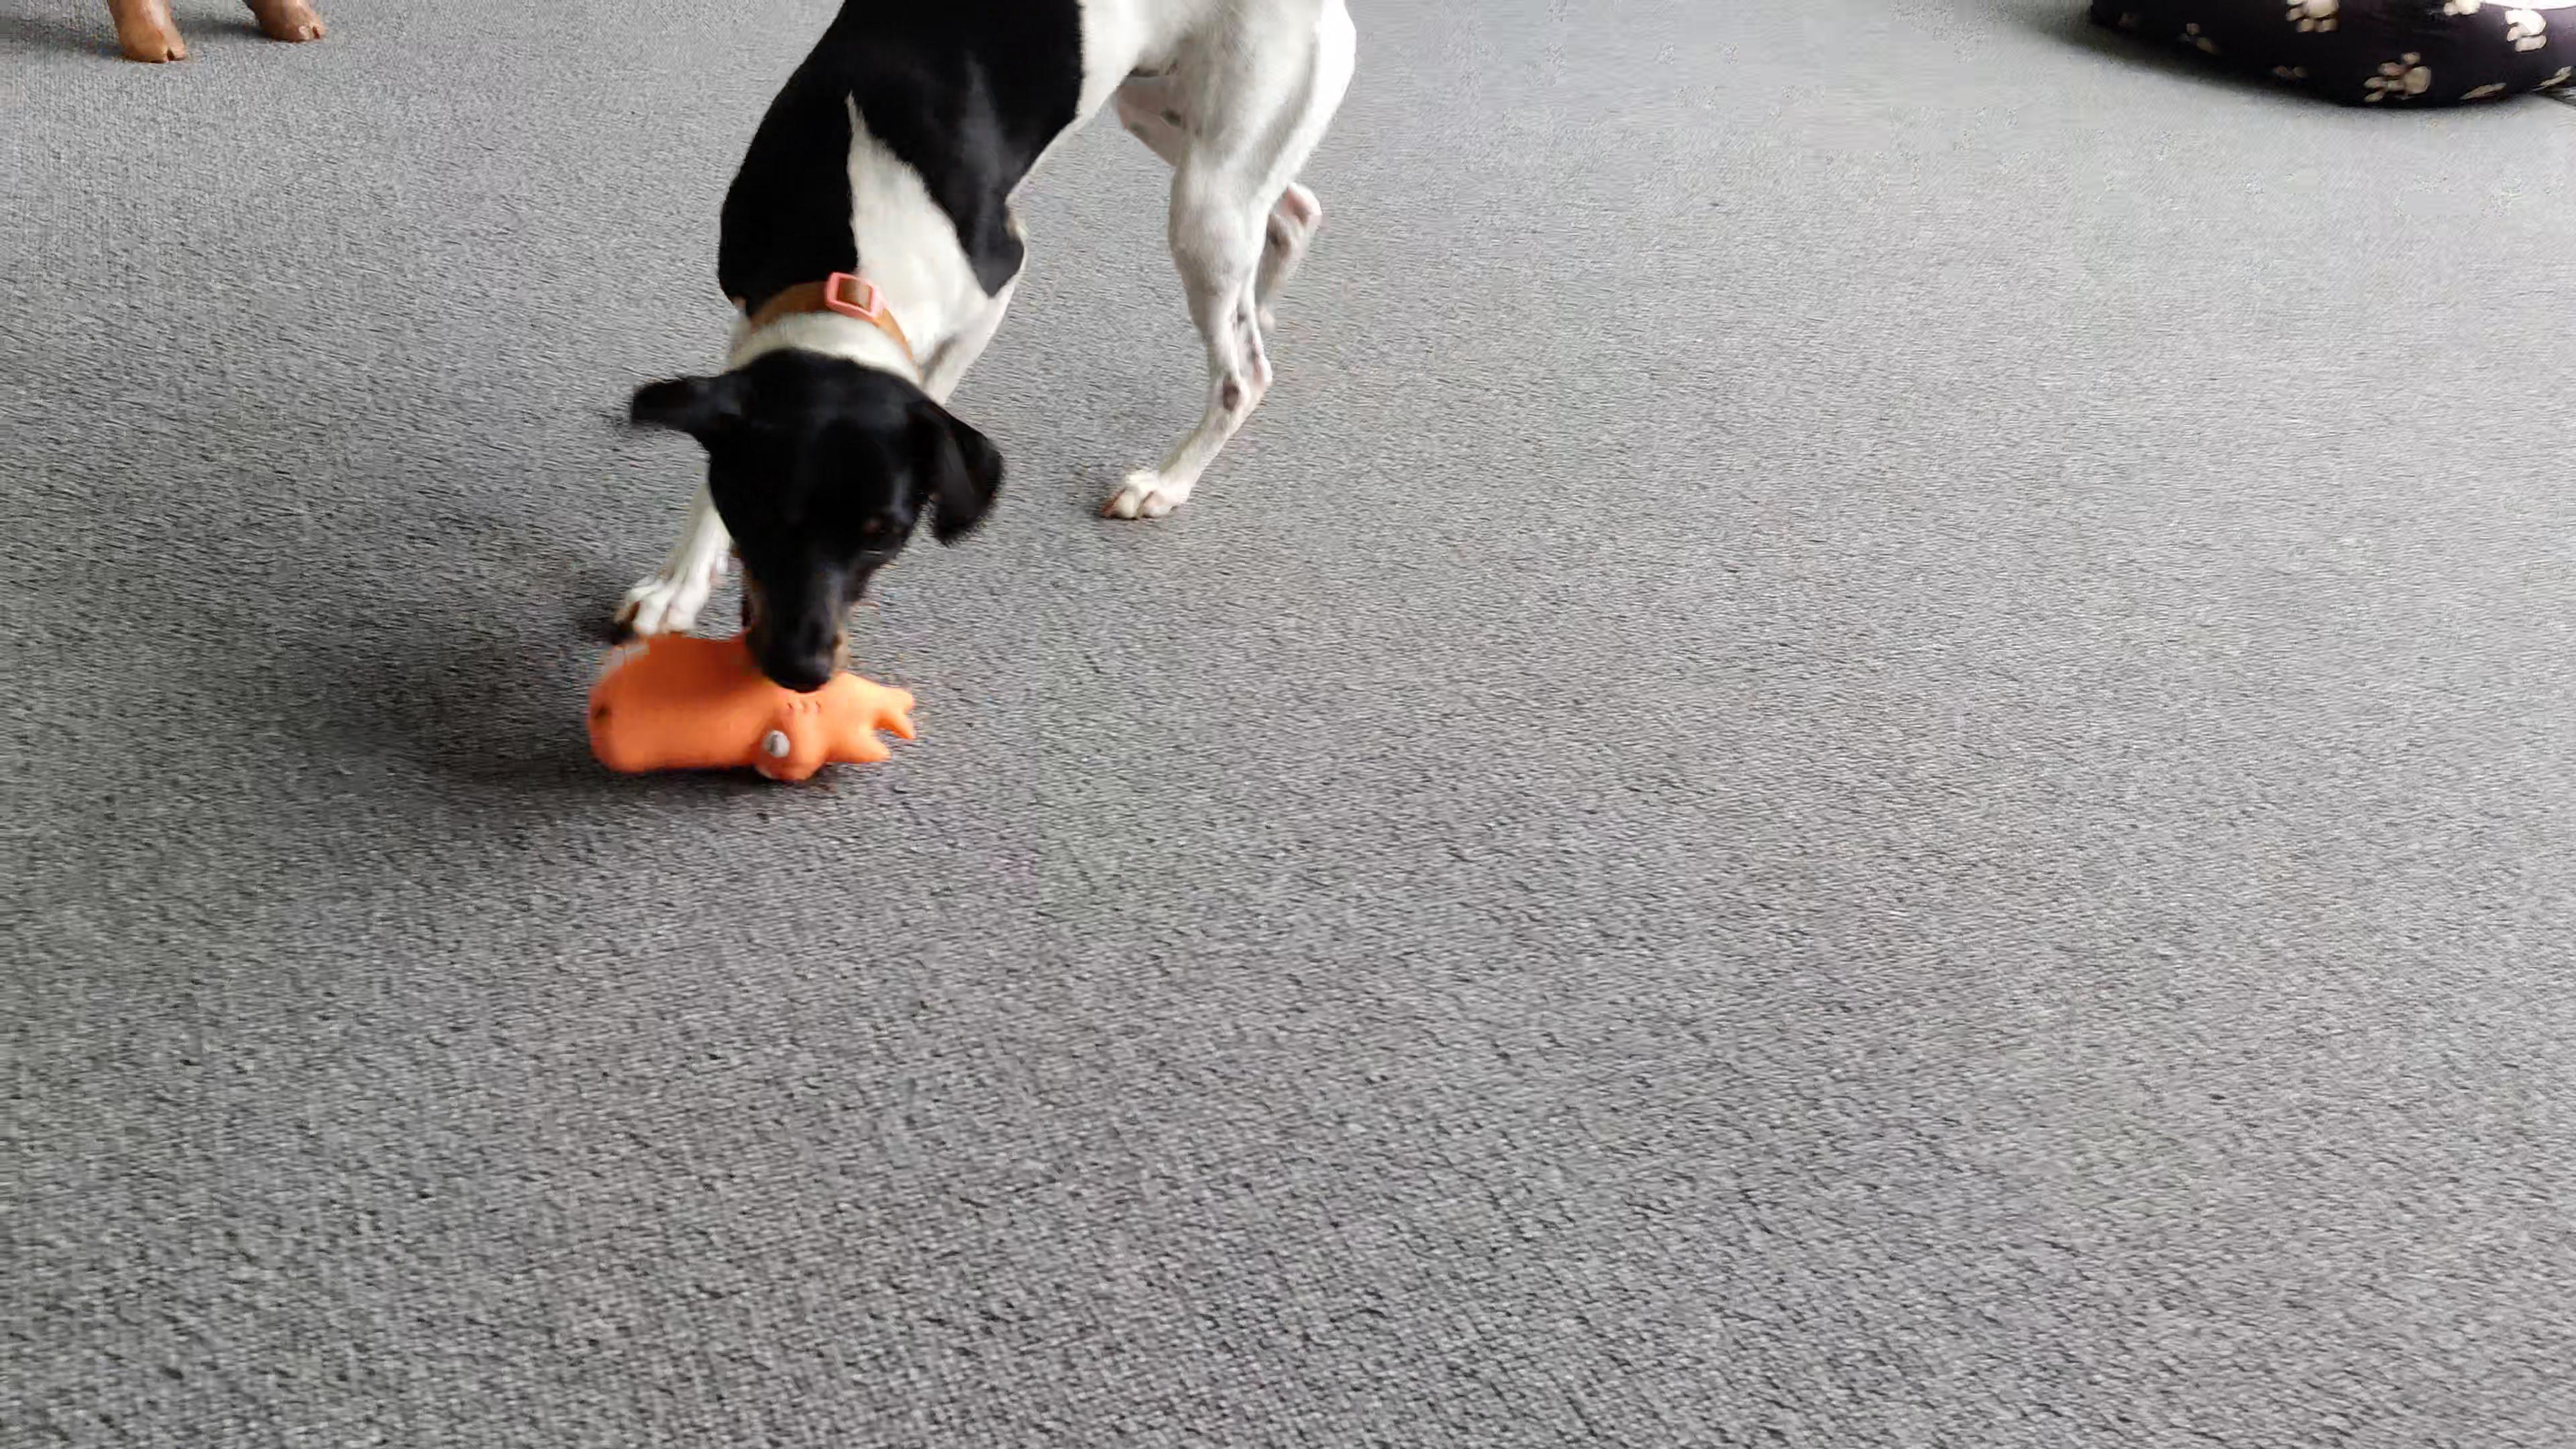Dog: (579, 0, 1366, 697)
